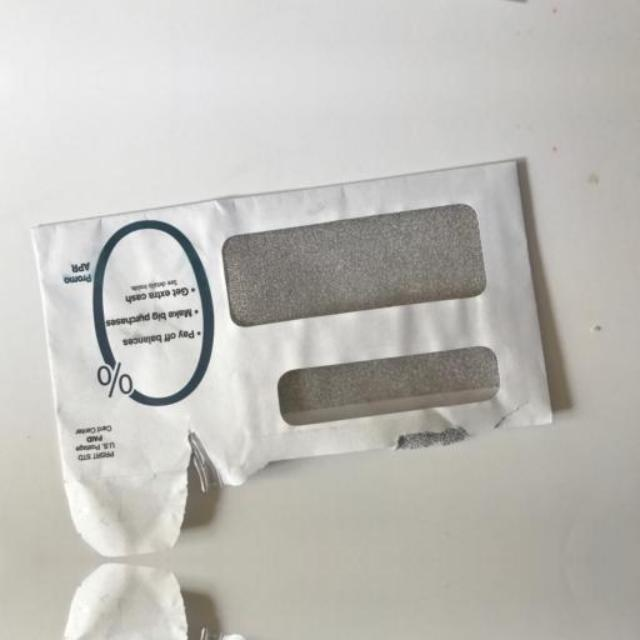paper: (29, 159, 551, 553), (29, 567, 551, 640), (29, 0, 551, 1)
